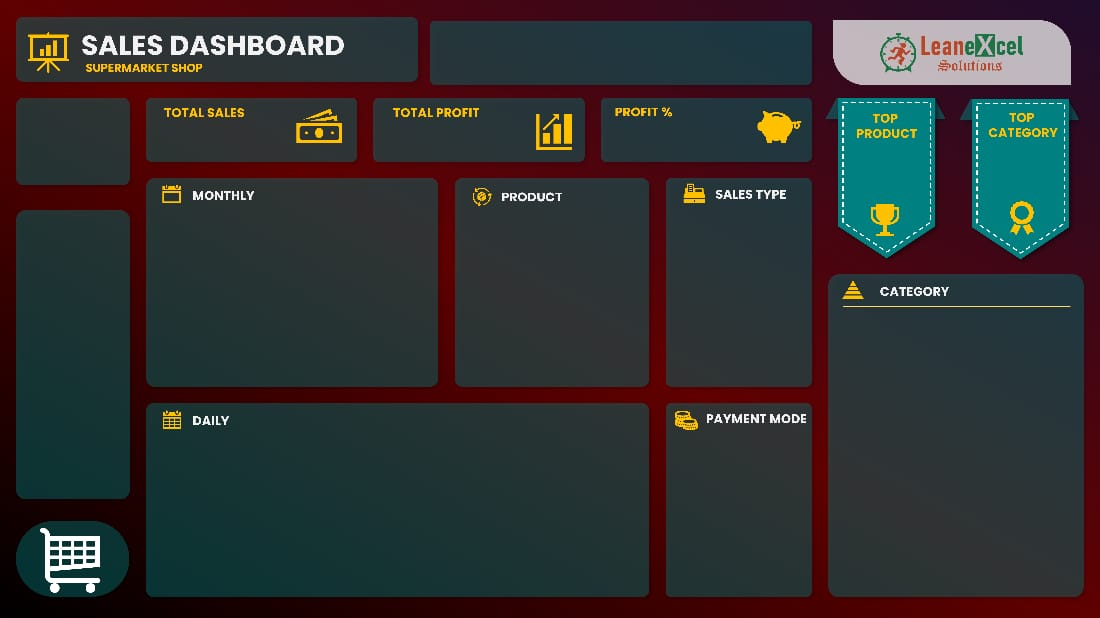

Layout of this report page (visuals, bound fields, positions):
{"tool":"powerbi","page":{"name":"DashBoard","canvas":[1280,720],"ordinal":0},"visuals":[{"type":"card","fields":{"Values":["All_measures.Total Selling Value"]},"box":[175.7,132.9,130,55.7],"z":1000},{"type":"card","fields":{"Values":["All_measures.Profit %"]},"box":[701.4,132.9,144.3,55.7],"z":2000},{"type":"card","fields":{"Values":["All_measures.Profit Margin"]},"box":[444.3,132.9,125.7,55.7],"z":3000},{"type":"slicer","fields":{"Values":["SALES_DATA.DATE.Variation.Date Hierarchy.Year"]},"box":[22.9,117.1,130,91.4],"z":4000},{"type":"slicer","fields":{"Values":["SALES_DATA.DATE.Variation.Date Hierarchy.Month"]},"box":[22.9,248.6,130,327.1],"z":5000},{"type":"columnChart","fields":{"Category":["SALES_DATA.DATE.Variation.Date Hierarchy.Month"],"Y":["All_measures.Total Selling Value","All_measures.Profit %","All_measures.Profit Margin"]},"box":[175.7,248.6,331.4,201.4],"z":6000},{"type":"donutChart","fields":{"Category":["SALES_DATA.SALE TYPE"],"Y":["All_measures.Total Selling Value"]},"box":[774.3,208.6,171.4,241.4],"z":7000},{"type":"barChart","fields":{"Category":["SALES_DATA.PRODUCT ID"],"Y":["All_measures.Total Selling Value"]},"box":[541.7,248.3,200,201.7],"z":8000},{"type":"areaChart","fields":{"Category":["SALES_DATA.DATE.Variation.Date Hierarchy.Day"],"Y":["All_measures.Total Selling Value"]},"box":[175,511.7,566.7,175],"z":9000},{"type":"slicer","fields":{"Values":["SALES_DATA.SALE TYPE"]},"box":[495,20,278.3,73.3],"z":10000},{"type":"slicer","fields":{"Values":["SALES_DATA.PAYMENT MODE"]},"box":[756.7,20,205,73.3],"z":11000},{"type":"donutChart","fields":{"Y":["All_measures.Total Selling Value"],"Category":["SALES_DATA.PAYMENT MODE"]},"box":[776.7,453.3,170,241.7],"z":12000},{"type":"treemap","fields":{"Group":["PRODUCT_MASTER.CATEGORY"],"Values":["All_measures.Total Selling Value"]},"box":[973.3,360,280,326.7],"z":13000},{"type":"textbox","box":[962.9,20,290,82.9],"z":14000},{"type":"card","fields":{"Values":["Min(PRODUCT_MASTER.PRODUCT)"]},"box":[982.5,163.3,97.4,35.7],"z":16000},{"type":"card","fields":{"Values":["Min(PRODUCT_MASTER.CATEGORY)"]},"box":[1138.9,164.7,100.2,34.3],"z":17000},{"type":"card","fields":{"Values":["All_measures.Total Selling Value"]},"box":[982.5,190.7,97.4,35.7],"z":18000},{"type":"card","fields":{"Values":["All_measures.Total Selling Value"]},"box":[1138.9,190.7,97.4,35.7],"z":19000}]}

Visuals, with their boxes in screenshot pixels (x1, y1, x2, y2), scaled from the page's 1280x720 canvas onto the 1100x618 screenshot:
card - All_measures.Total Selling Value: rect(151, 114, 263, 162)
card - All_measures.Profit %: rect(603, 114, 727, 162)
card - All_measures.Profit Margin: rect(382, 114, 490, 162)
slicer - SALES_DATA.DATE.Variation.Date Hierarchy.Year: rect(20, 101, 131, 179)
slicer - SALES_DATA.DATE.Variation.Date Hierarchy.Month: rect(20, 213, 131, 494)
columnChart - SALES_DATA.DATE.Variation.Date Hierarchy.Month x All_measures.Total Selling Value: rect(151, 213, 436, 386)
donutChart - SALES_DATA.SALE TYPE x All_measures.Total Selling Value: rect(665, 179, 813, 386)
barChart - SALES_DATA.PRODUCT ID x All_measures.Total Selling Value: rect(466, 213, 637, 386)
areaChart - SALES_DATA.DATE.Variation.Date Hierarchy.Day x All_measures.Total Selling Value: rect(150, 439, 637, 589)
slicer - SALES_DATA.SALE TYPE: rect(425, 17, 665, 80)
slicer - SALES_DATA.PAYMENT MODE: rect(650, 17, 826, 80)
donutChart - All_measures.Total Selling Value x SALES_DATA.PAYMENT MODE: rect(667, 389, 814, 597)
treemap - PRODUCT_MASTER.CATEGORY x All_measures.Total Selling Value: rect(836, 309, 1077, 589)
textbox: rect(827, 17, 1077, 88)
card - Min(PRODUCT_MASTER.PRODUCT): rect(844, 140, 928, 171)
card - Min(PRODUCT_MASTER.CATEGORY): rect(979, 141, 1065, 171)
card - All_measures.Total Selling Value: rect(844, 164, 928, 194)
card - All_measures.Total Selling Value: rect(979, 164, 1062, 194)
